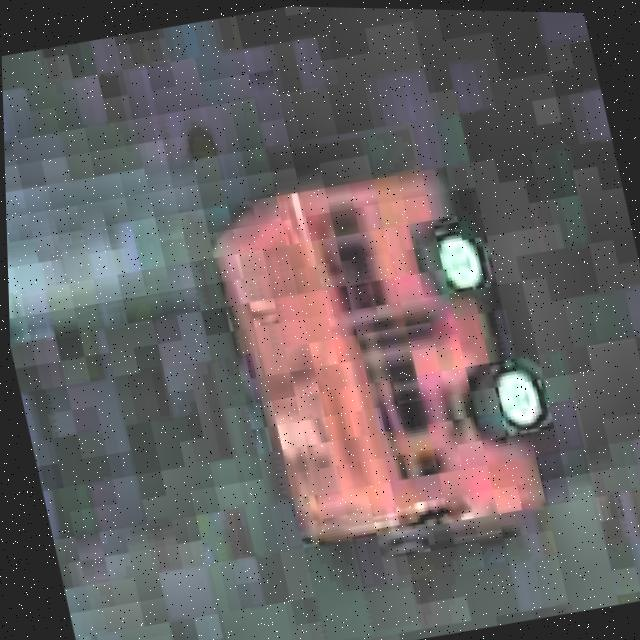bus: (187, 132, 585, 578)
